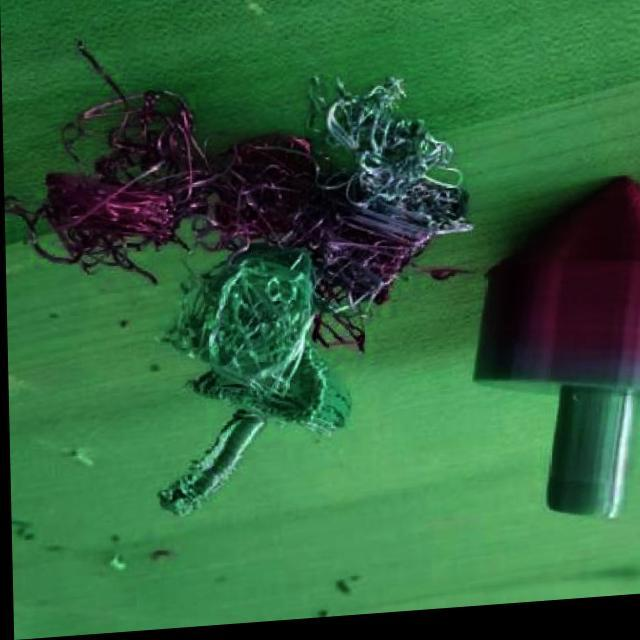spaghetti: (2, 18, 480, 385), (184, 360, 350, 453)
